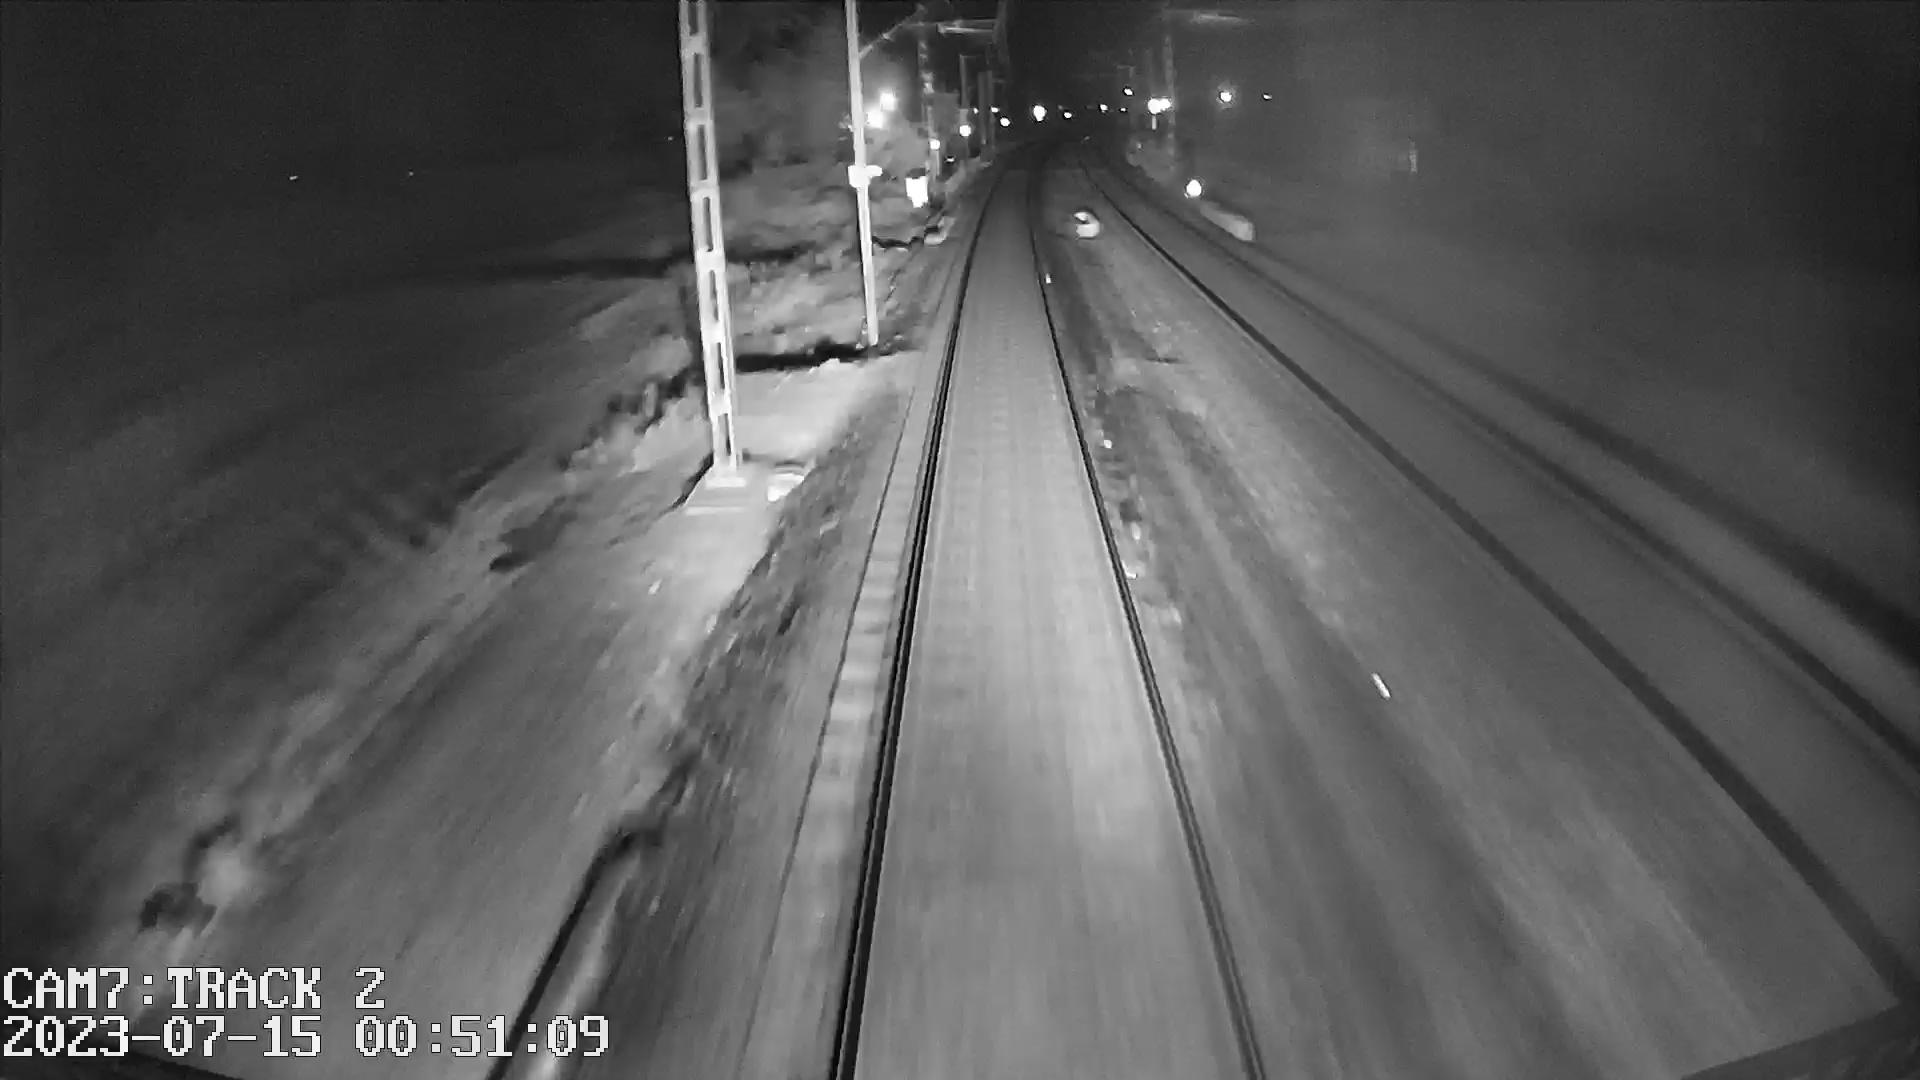track1: (848, 202, 1246, 1030)
track2: (1122, 208, 1911, 901)
